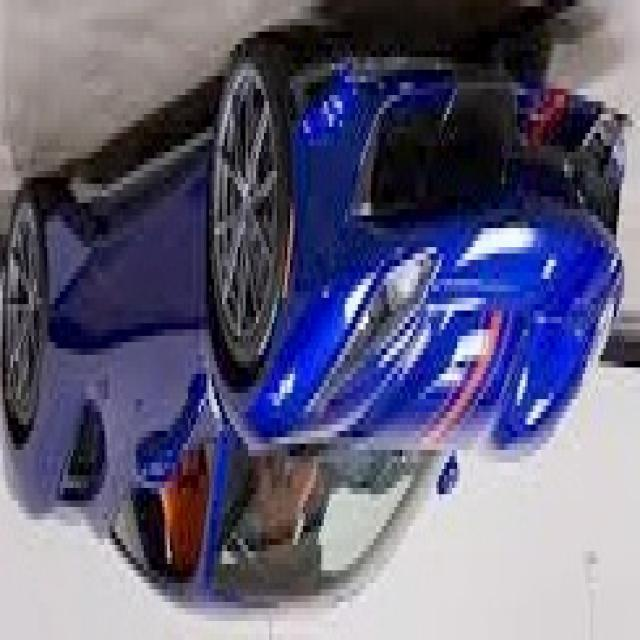blue: (6, 10, 604, 611)
